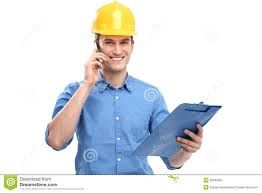Person_wearing_helmet: (87, 0, 145, 47)
